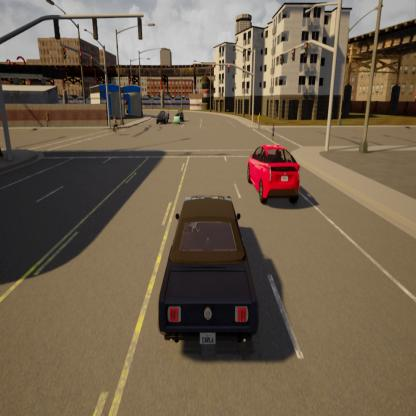Cars: (146, 172, 264, 353), (235, 139, 308, 209), (174, 104, 190, 145), (155, 103, 170, 138)
Pedestrian: (42, 104, 52, 134), (112, 108, 121, 140), (254, 99, 261, 136), (268, 115, 277, 142)
